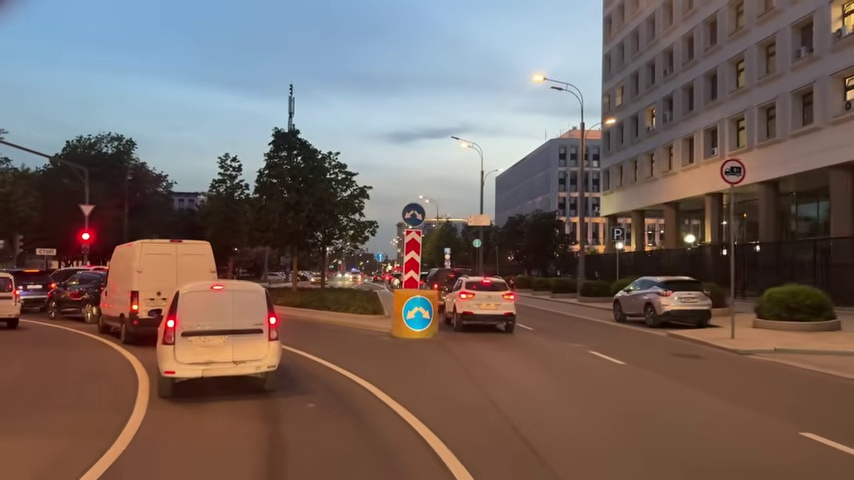acesa: (457, 138, 472, 154), (532, 71, 546, 85)
